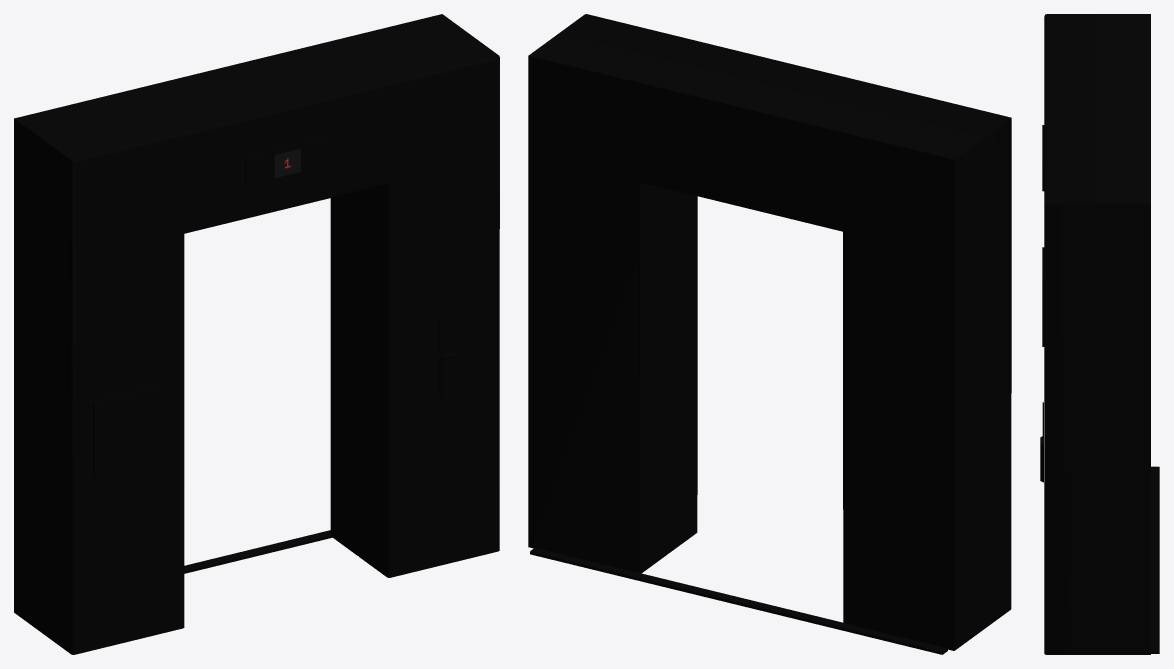
Rendered from sm_doorFrame.fbx.
3 views of the same model, side by side, from view 1: azimuth 30°, elevation 25°; view 2: azimuth 150°, elevation 25°; view 3: azimuth 270°, elevation 25° (orthographic). The views are drawn at different scales.
Parts seen in each view (by area): view 1: sm_doorFrame; view 2: sm_doorFrame; view 3: sm_doorFrame.
Boxes of the visible parts, bbox=[...] form: sm_doorFrame: bbox=[14, 14, 499, 654]; sm_doorFrame: bbox=[528, 14, 1011, 654]; sm_doorFrame: bbox=[1040, 14, 1159, 654].
Size of the model in its own units: 232 by 257 by 61.48.
Materials: 2 (2 with a texture image).
